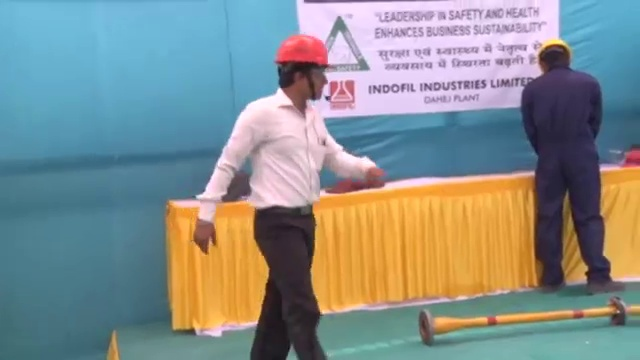helmet: (275, 34, 332, 69), (537, 38, 573, 62)
helmet_on: (273, 31, 334, 107), (536, 36, 576, 77)
person: (190, 32, 388, 360), (522, 37, 627, 293)
